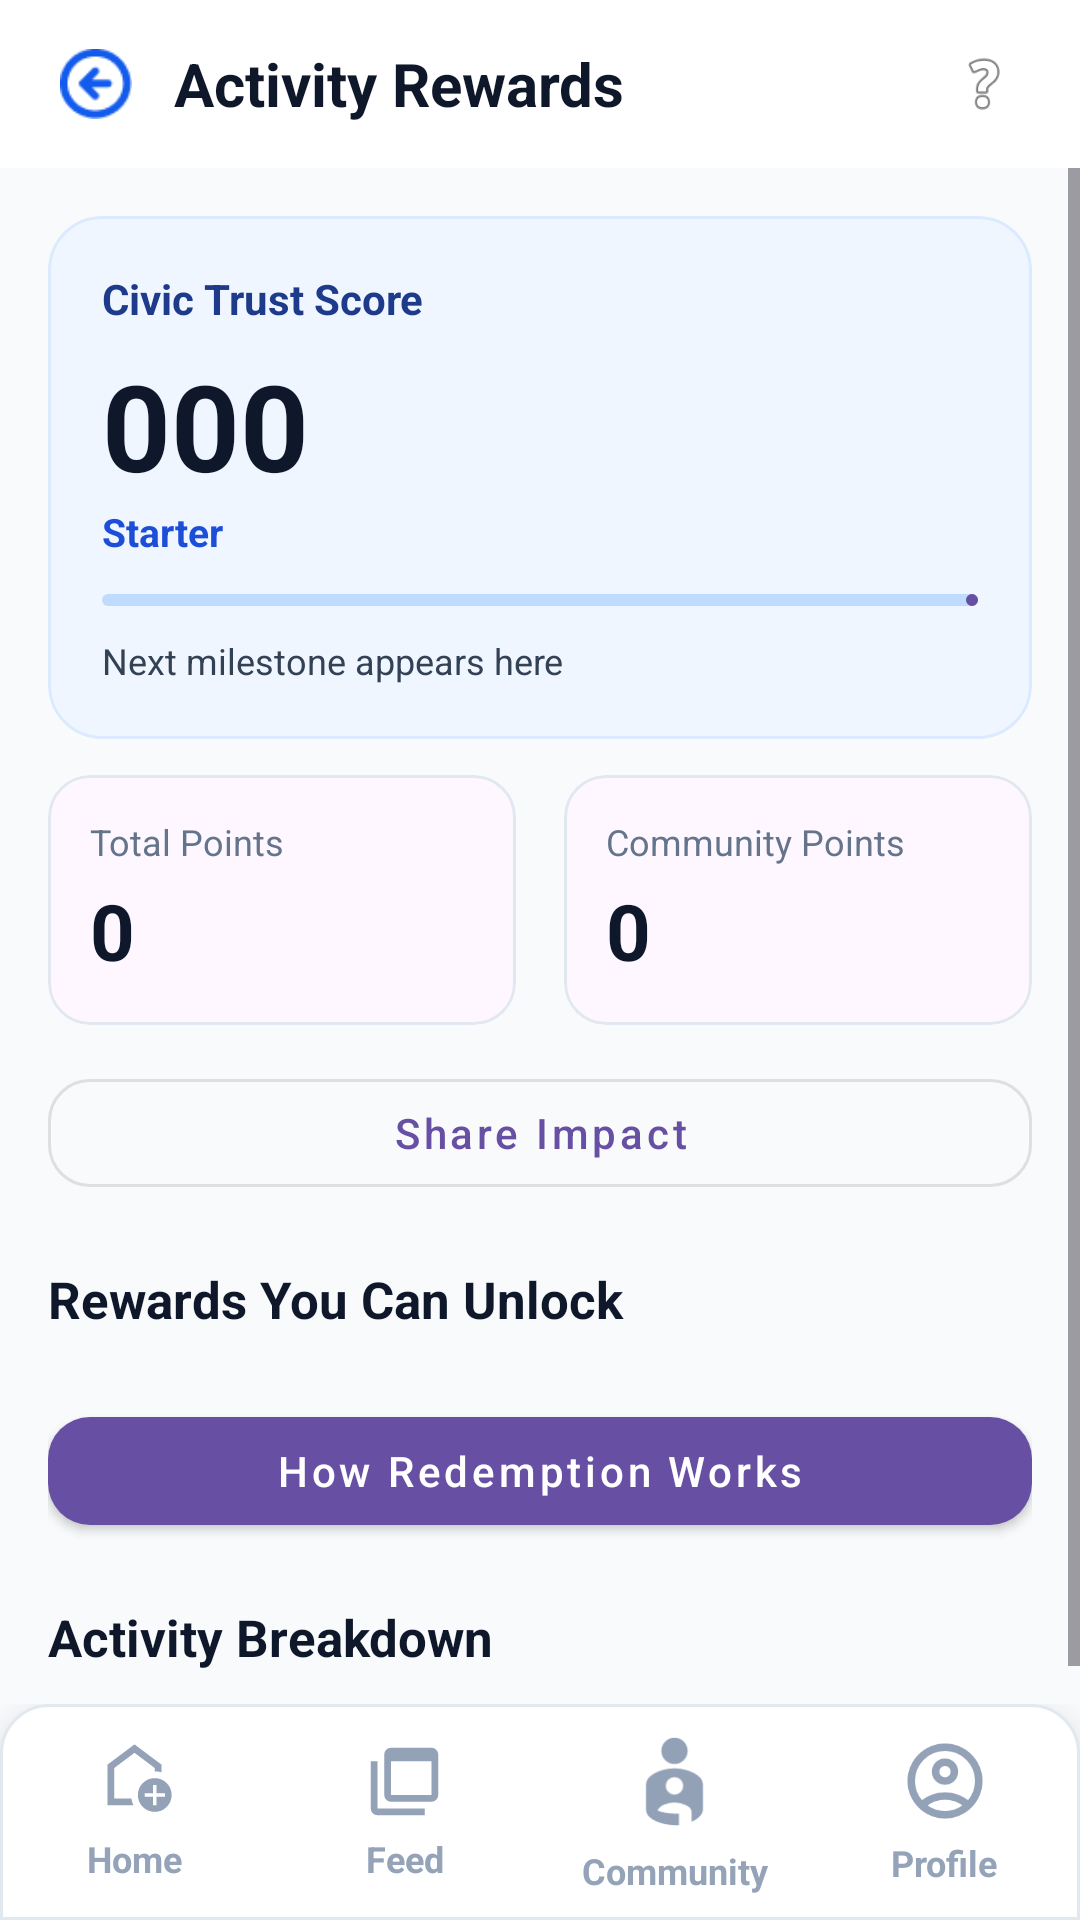

Where icons sit on this 1080px×1920px app screen, as [x1=x1, y1=y1, x2=x2, y2=y2]:
back: [x1=60, y1=49, x2=132, y2=119]
Score info: [x1=968, y1=58, x2=1000, y2=110]
